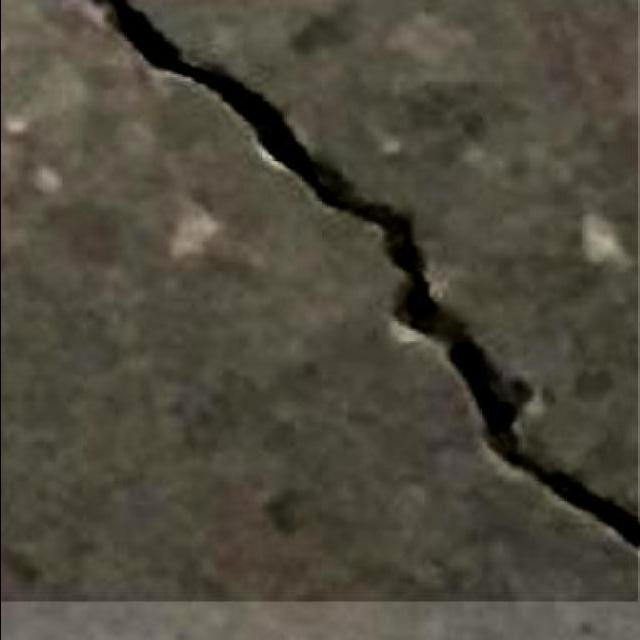SurfaceCrack: (64, 16, 640, 608)
